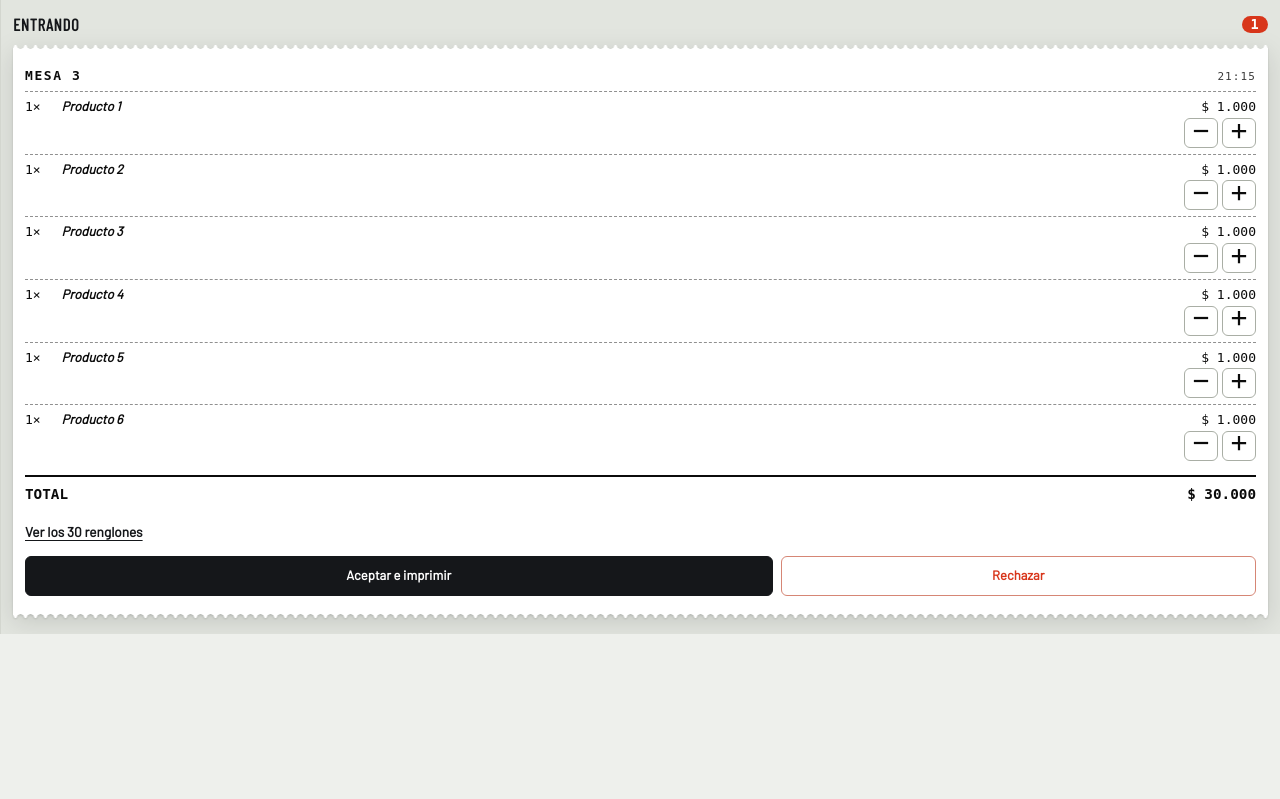
Test: un pedido de 30 renglones se muestra plegado, con el total completo, y se despliega
Check: the number of list items is 6, box x1=25 y1=91 x2=1256 y2=154; x1=25 y1=154 x2=1256 y2=216; x1=25 y1=216 x2=1256 y2=279; x1=25 y1=279 x2=1256 y2=342; x1=25 y1=342 x2=1256 y2=404; x1=25 y1=404 x2=1256 y2=466
Check: the element "MESA 3" shows "$ 30.000", box x1=1187 y1=486 x2=1256 y2=502
Click the button "Ver los 30 renglones" at (84, 532), box x1=25 y1=516 x2=143 y2=548
(page scrolled)
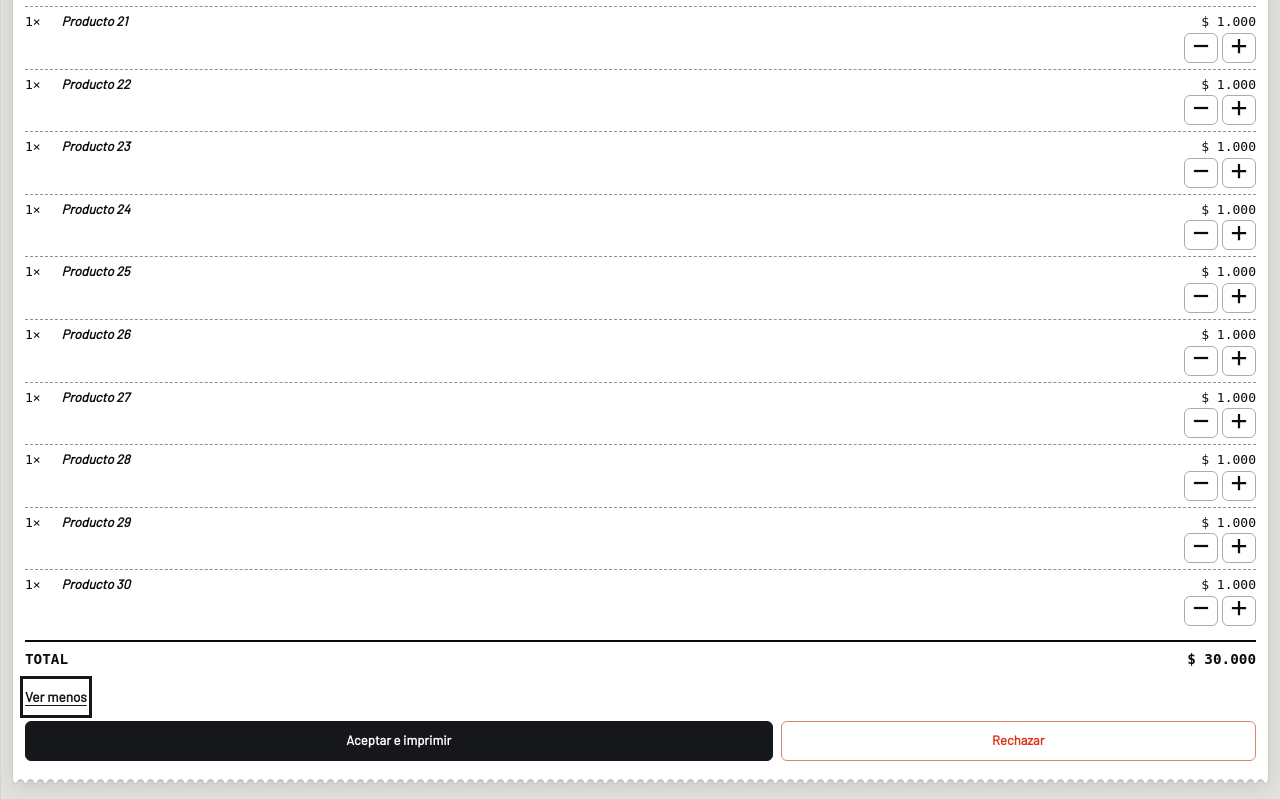
Check: the button "Ver menos" is shown, box x1=25 y1=681 x2=87 y2=713
